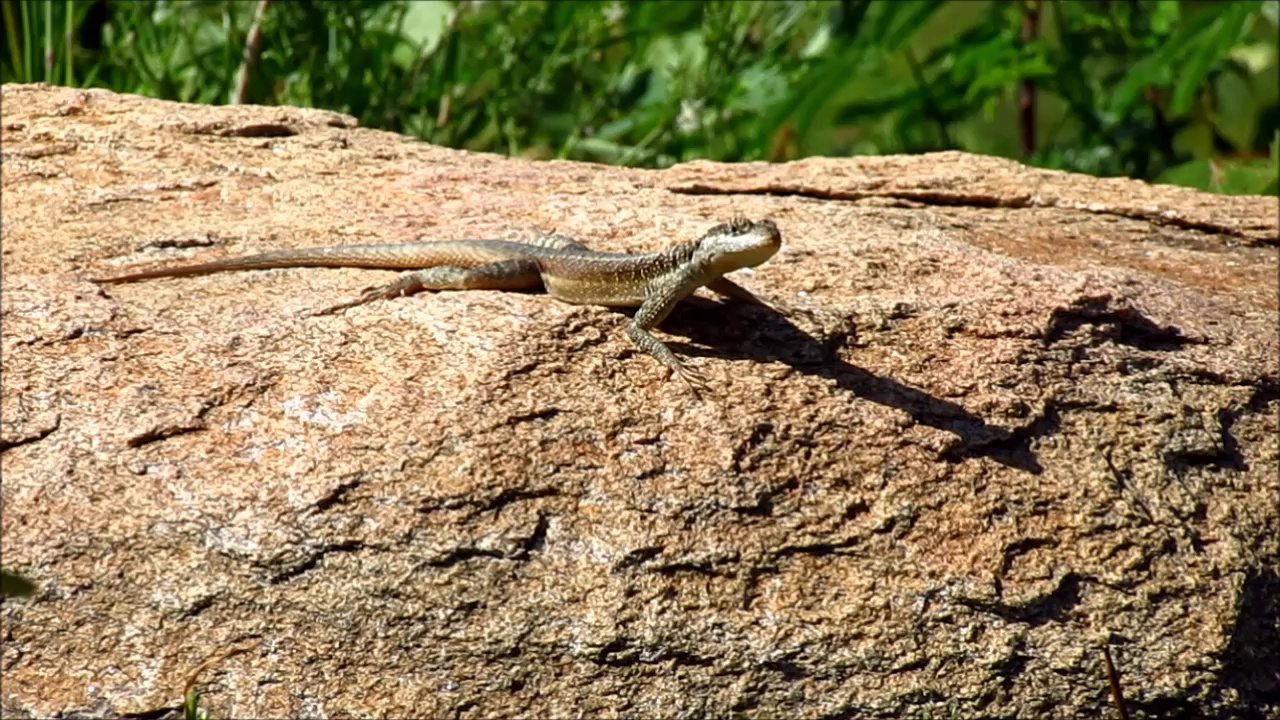body: (92, 227, 709, 402)
head: (690, 219, 785, 270)
